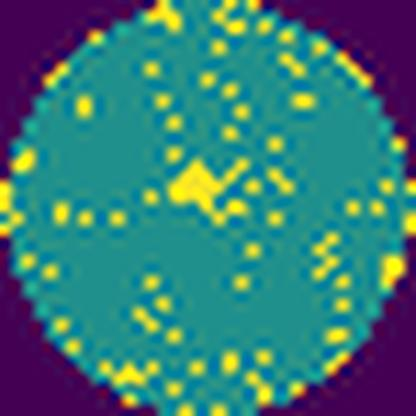Center: (165, 147, 250, 227)
